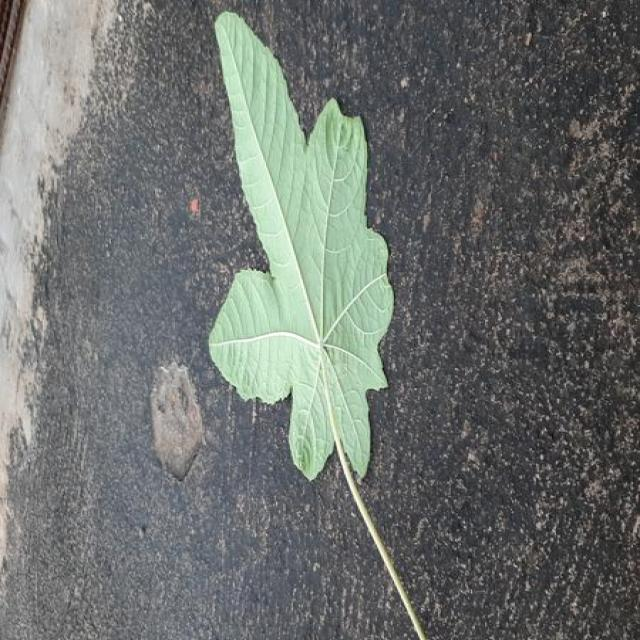castor: (210, 12, 393, 546)
